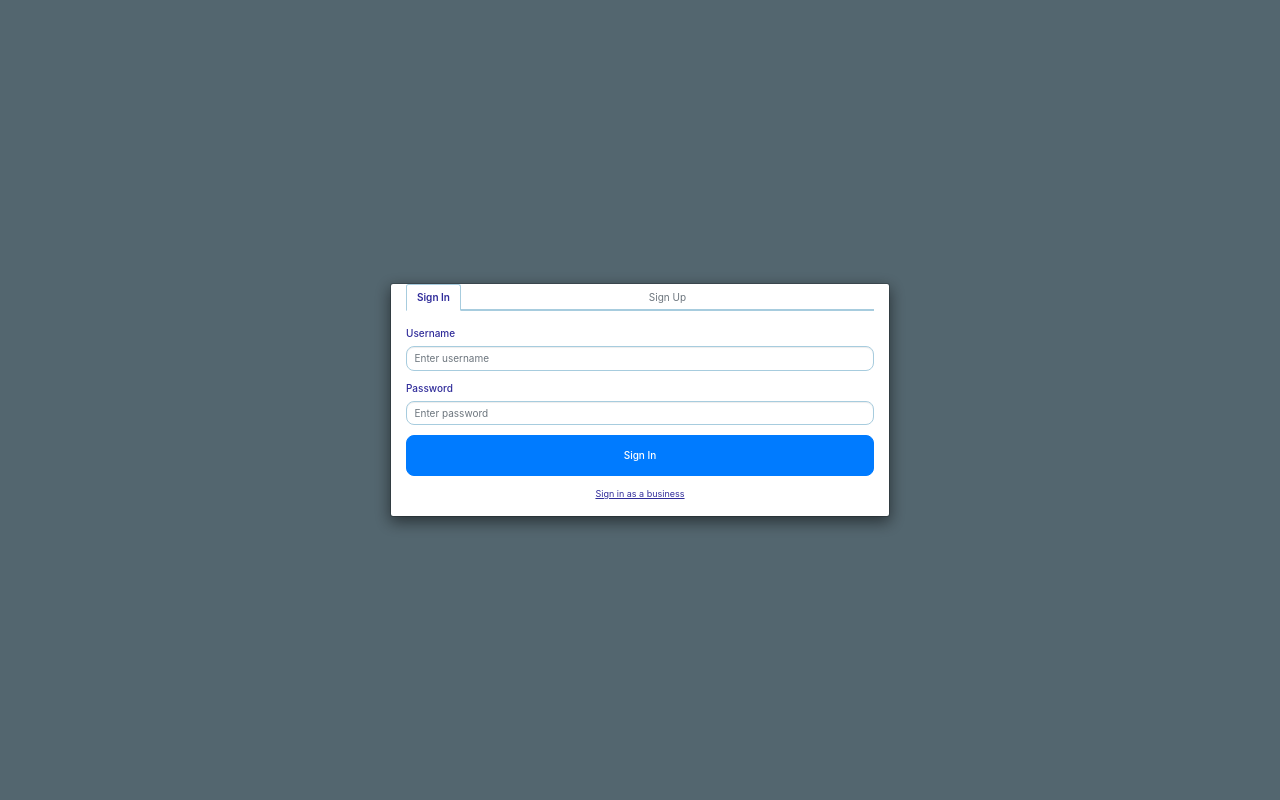
Test case: UnifiedAuthModal › business authentication › should switch to business mode when toggle clicked
Click the button "Sign in as a business": click(640, 494) [595,487,684,500]
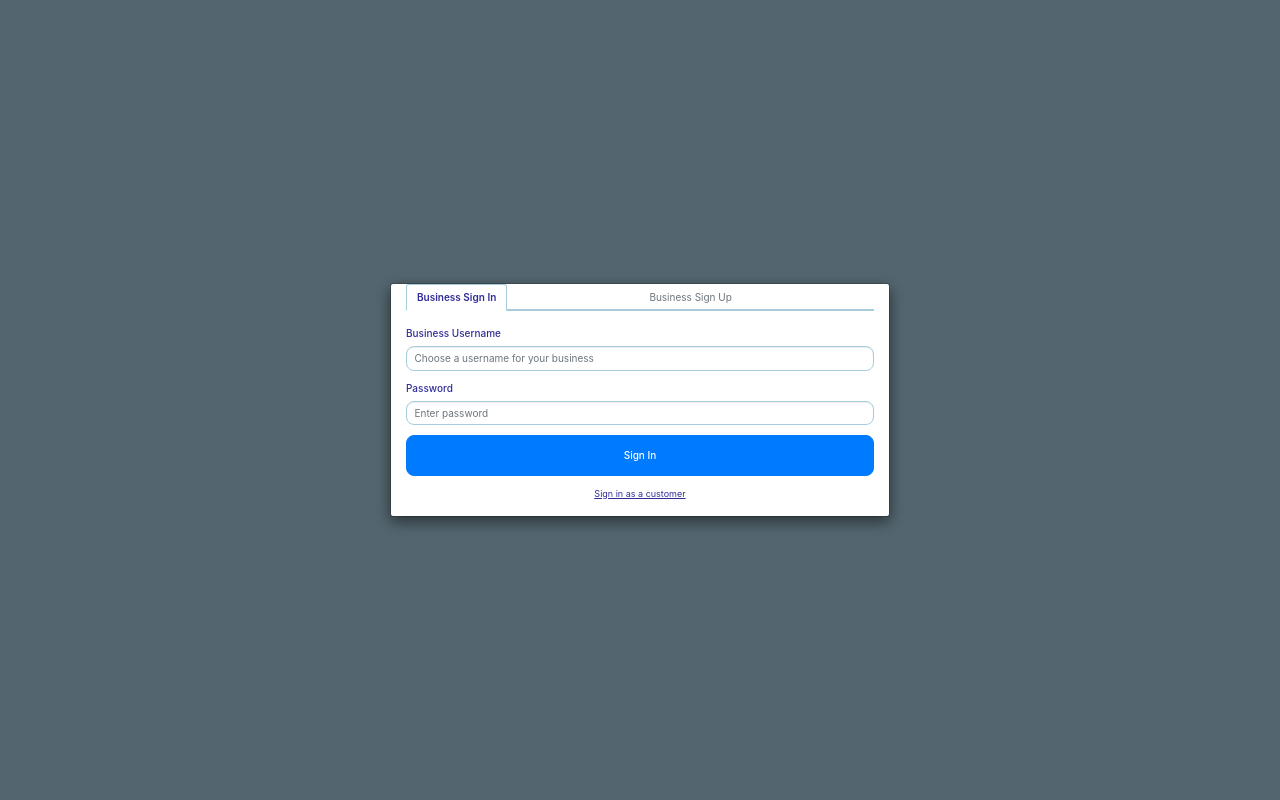
Check: the button "Business Sign In" is shown, box [406,284,507,311]
